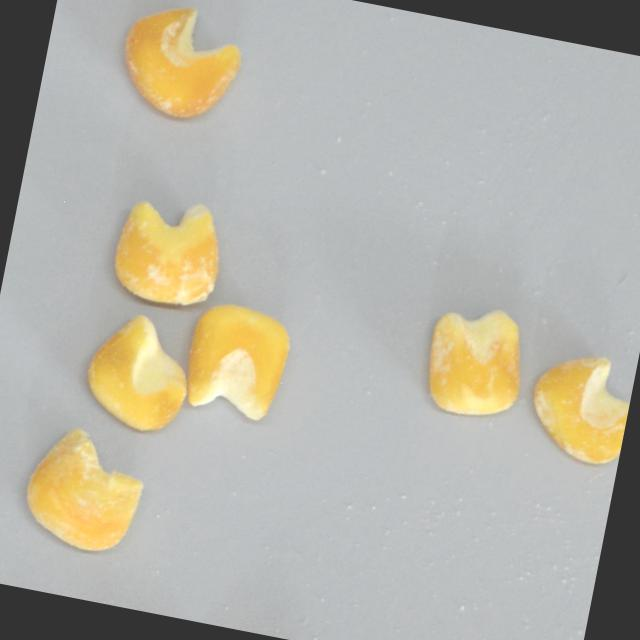no_canjicado: (76, 303, 200, 439), (180, 296, 296, 423)
pelicula: (15, 419, 153, 559), (111, 0, 250, 128), (105, 189, 231, 314), (417, 296, 534, 426), (520, 345, 637, 469)
